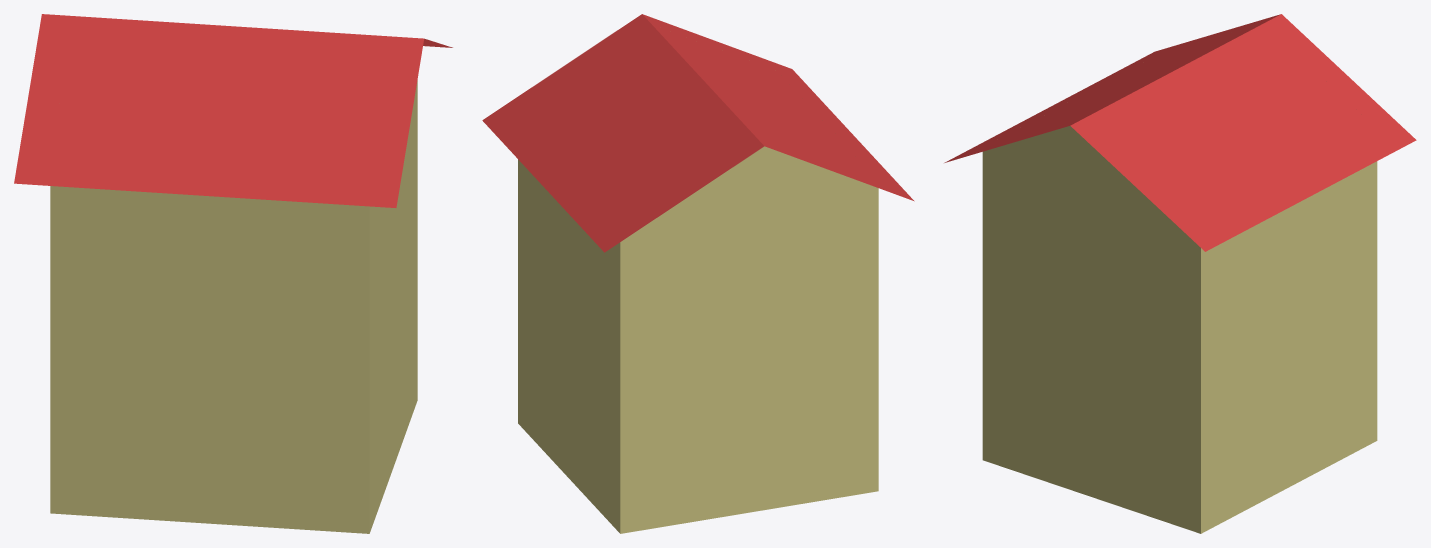
3 views of the same model, side by side, from view 1: azimuth 30°, elevation 25°; view 2: azimuth 150°, elevation 25°; view 3: azimuth 270°, elevation 25° (orthographic). The views are drawn at different scales.
Visible parts, largest first — view 1: group_5, group_3, group_4; view 2: group_5, group_3, group_4; view 3: group_5, group_3, group_4.
Boxes of the visible parts, x1=… form: group_5: x1=50, y1=80, x2=417, y2=533; group_3: x1=14, y1=16, x2=445, y2=207; group_4: x1=14, y1=14, x2=452, y2=207; group_5: x1=518, y1=146, x2=878, y2=533; group_3: x1=482, y1=14, x2=878, y2=237; group_4: x1=483, y1=14, x2=914, y2=252; group_5: x1=982, y1=126, x2=1377, y2=533; group_3: x1=983, y1=14, x2=1376, y2=251; group_4: x1=944, y1=14, x2=1416, y2=250.
Size of the model in its own units: 12.69 by 12.68 by 11.2.
